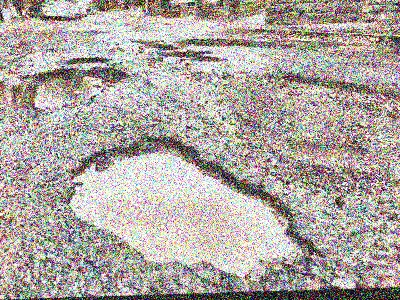pothole: (63, 127, 320, 285), (0, 65, 134, 110), (288, 136, 372, 165), (67, 54, 114, 67)
